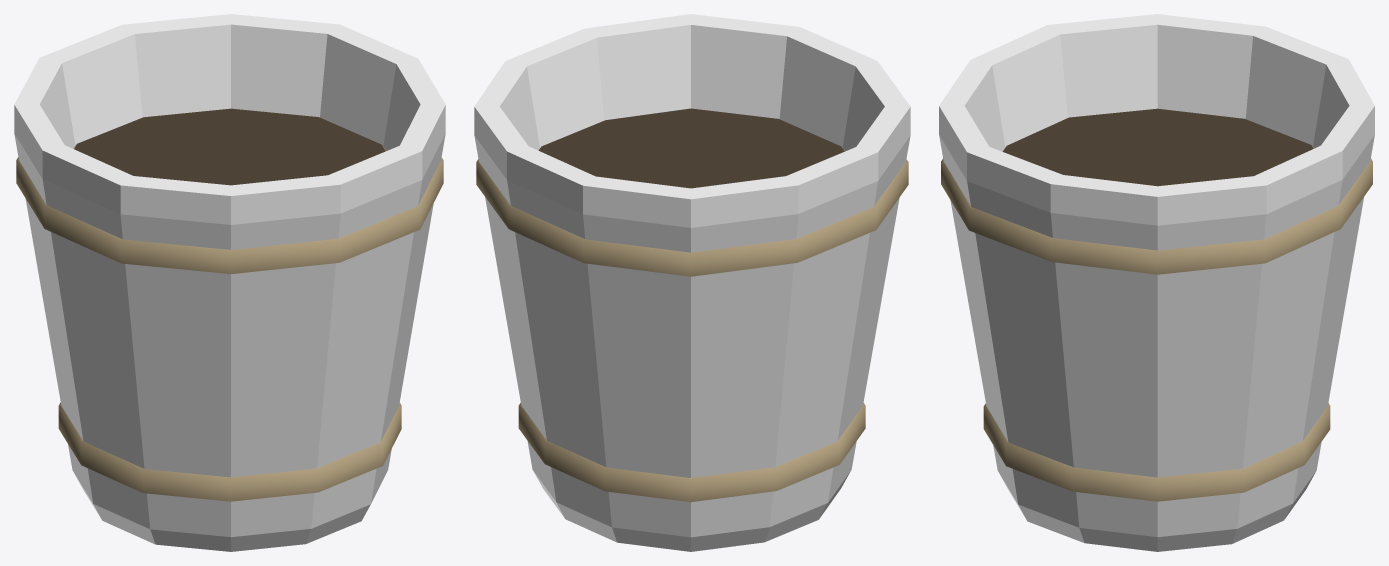
Rendered from CM_BotanicalPlanterKit01_WoodBucket.fbx.
3 views of the same model, side by side, from view 1: azimuth 30°, elevation 25°; view 2: azimuth 150°, elevation 25°; view 3: azimuth 270°, elevation 25° (orthographic).
Visible parts, largest first — view 1: CM_BotanicalPlanterKit01_WoodBucket_Timber, CM_BotanicalPlanterKit01_WoodBucket_Twine, CM_BotanicalPlanterKit01_WoodBucket_Soil.001; view 2: CM_BotanicalPlanterKit01_WoodBucket_Timber, CM_BotanicalPlanterKit01_WoodBucket_Twine, CM_BotanicalPlanterKit01_WoodBucket_Soil.001; view 3: CM_BotanicalPlanterKit01_WoodBucket_Timber, CM_BotanicalPlanterKit01_WoodBucket_Twine, CM_BotanicalPlanterKit01_WoodBucket_Soil.001.
Part boxes in pixels (x1,y1,x2,y2): CM_BotanicalPlanterKit01_WoodBucket_Timber: [14, 14, 445, 551]; CM_BotanicalPlanterKit01_WoodBucket_Twine: [16, 145, 443, 501]; CM_BotanicalPlanterKit01_WoodBucket_Soil.001: [74, 108, 385, 185]; CM_BotanicalPlanterKit01_WoodBucket_Timber: [474, 14, 910, 551]; CM_BotanicalPlanterKit01_WoodBucket_Twine: [476, 148, 908, 502]; CM_BotanicalPlanterKit01_WoodBucket_Soil.001: [539, 108, 844, 188]; CM_BotanicalPlanterKit01_WoodBucket_Timber: [939, 14, 1374, 551]; CM_BotanicalPlanterKit01_WoodBucket_Twine: [941, 146, 1372, 501]; CM_BotanicalPlanterKit01_WoodBucket_Soil.001: [1003, 108, 1313, 186].
Bounding box in the file's own units: 0.4087 × 0.4 × 0.4116.
